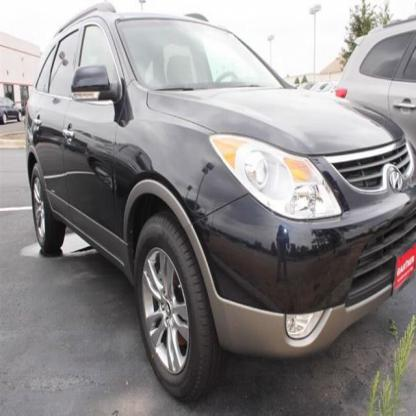Vehicle: (24, 3, 415, 405)
